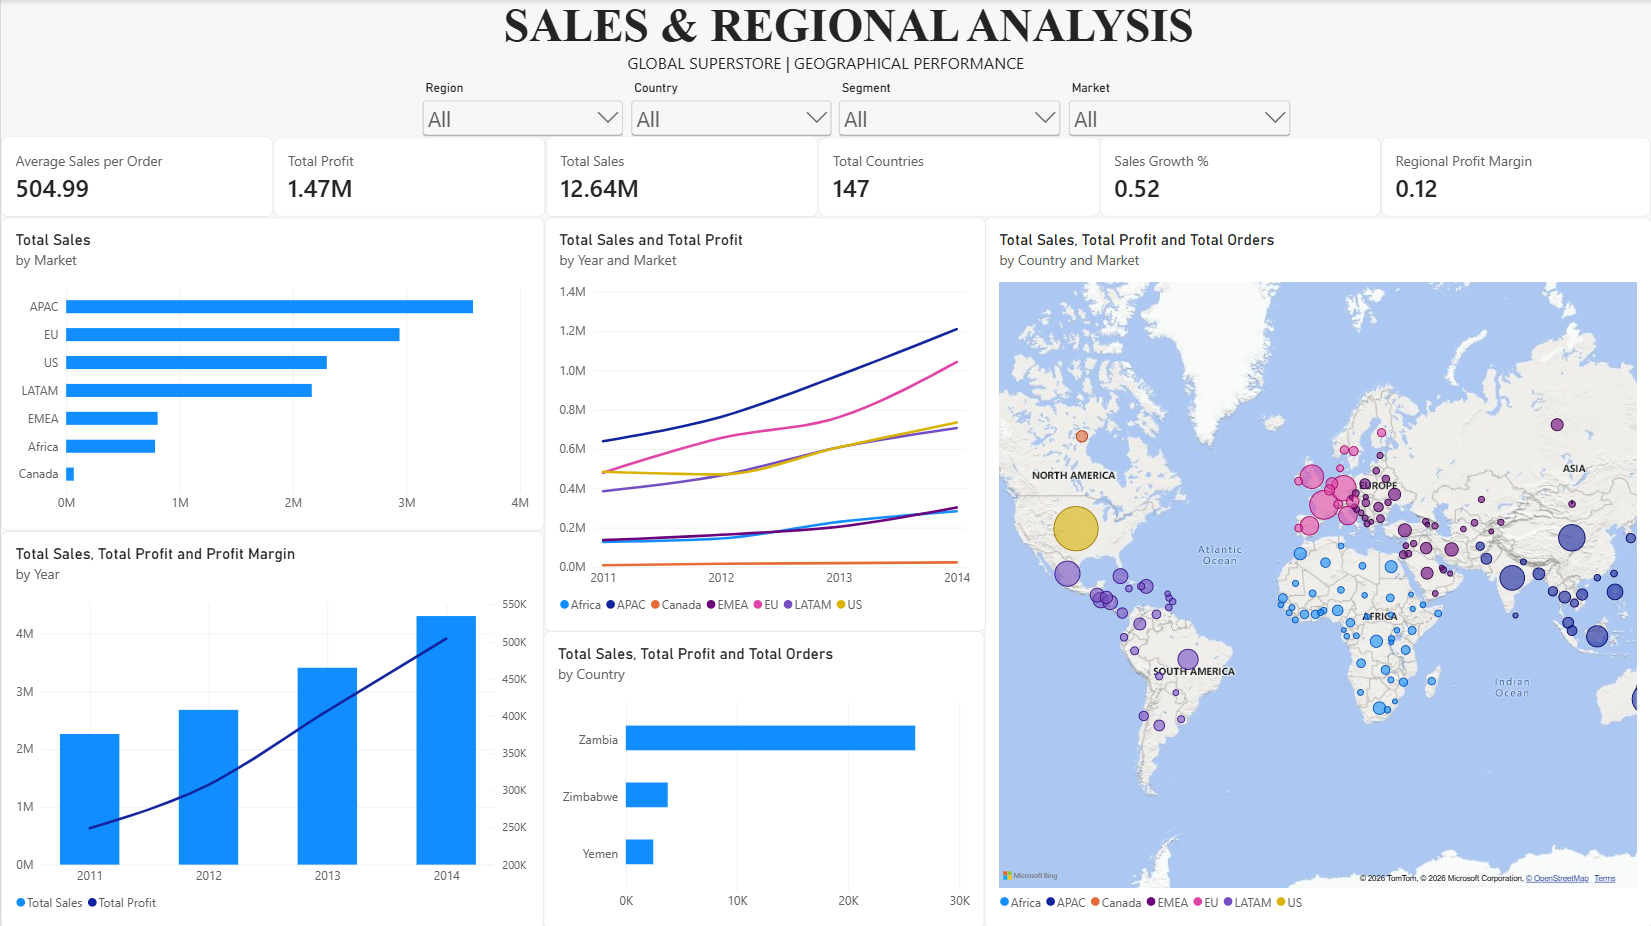

What the dashboard file says about the page in this screenshot:
{"tool":"powerbi","page":{"name":"SALES & REGIONAL  ","canvas":[1920,1080],"ordinal":1},"visuals":[{"type":"textbox","box":[0,0,1919,92],"z":0},{"type":"slicer","title":"REGION ","fields":{"Values":["Global_Superstore2.Region"]},"box":[485.8,92.6,242.9,74.1],"z":1000},{"type":"slicer","fields":{"Values":["Global_Superstore2.Country"]},"box":[728.6,92.6,242.9,72],"z":2000},{"type":"slicer","fields":{"Values":["Global_Superstore2.Segment"]},"box":[969.5,92.6,267.6,72],"z":3000},{"type":"cardVisual","fields":{"Data":["Global_Superstore2.Total Profit"]},"box":[317,160.5,317,92.6],"z":4000},{"type":"cardVisual","fields":{"Data":["Global_Superstore2.Total Sales"]},"box":[634,158.5,317,94.7],"z":5000},{"type":"cardVisual","fields":{"Data":["Global_Superstore2.Total Countries"]},"box":[950.9,160.5,327.3,92.6],"z":6000},{"type":"cardVisual","fields":{"Data":["Global_Superstore2.Sales Growth %"]},"box":[1278.2,160.5,327.3,92.6],"z":7000},{"type":"cardVisual","fields":{"Data":["Global_Superstore2.Average Sales per Order"]},"box":[0,158.5,317,94.7],"z":8000},{"type":"cardVisual","fields":{"Data":["Global_Superstore2.Regional Profit Margin"]},"box":[1605.5,160.5,314.9,92.6],"z":9000},{"type":"clusteredBarChart","fields":{"Category":["Global_Superstore2.Market"],"Y":["Global_Superstore2.Total Sales"]},"box":[0,253.2,631.9,364.3],"z":10000},{"type":"slicer","fields":{"Values":["Global_Superstore2.Market"]},"box":[1237.1,92.6,267.6,67.9],"z":11000},{"type":"lineClusteredColumnComboChart","fields":{"Category":["Global_Superstore2.Order Date.Variation.Date Hierarchy.Year"],"Y":["Global_Superstore2.Total Sales"],"Y2":["Global_Superstore2.Total Profit"]},"box":[0,617.3,631.4,463],"z":12000},{"type":"clusteredBarChart","fields":{"Category":["Global_Superstore2.Country"],"Y":["Global_Superstore2.Total Sales"]},"box":[631.4,734.2,512.9,346.1],"z":13000},{"type":"map","fields":{"Category":["Global_Superstore2.Country"],"Series":["Global_Superstore2.Market"],"Size":["Global_Superstore2.Total Sales"]},"box":[1144.4,253.2,776,827.4],"z":14000},{"type":"lineChart","fields":{"Category":["Global_Superstore2.Order Date.Variation.Date Hierarchy.Year","Global_Superstore2.Order Date.Variation.Date Hierarchy.Month"],"Series":["Global_Superstore2.Market"],"Y":["Global_Superstore2.Total Sales"]},"box":[631.9,253.2,512.5,481.6],"z":15000}]}

Visuals, with their boxes in screenshot pixels (x1, y1, x2, y2), scaled from the page's 1920x1080 canvas onto the 1651x926 screenshot:
textbox: select_region(0, 0, 1650, 79)
"REGION " slicer: select_region(418, 79, 627, 143)
slicer - Global_Superstore2.Country: select_region(627, 79, 835, 141)
slicer - Global_Superstore2.Segment: select_region(834, 79, 1064, 141)
cardVisual - Global_Superstore2.Total Profit: select_region(273, 138, 545, 217)
cardVisual - Global_Superstore2.Total Sales: select_region(545, 136, 818, 217)
cardVisual - Global_Superstore2.Total Countries: select_region(818, 138, 1099, 217)
cardVisual - Global_Superstore2.Sales Growth %: select_region(1099, 138, 1381, 217)
cardVisual - Global_Superstore2.Average Sales per Order: select_region(0, 136, 273, 217)
cardVisual - Global_Superstore2.Regional Profit Margin: select_region(1381, 138, 1650, 217)
clusteredBarChart - Global_Superstore2.Market x Global_Superstore2.Total Sales: select_region(0, 217, 543, 529)
slicer - Global_Superstore2.Market: select_region(1064, 79, 1294, 138)
lineClusteredColumnComboChart - Global_Superstore2.Order Date.Variation.Date Hierarchy.Year x Global_Superstore2.Total Sales: select_region(0, 529, 543, 925)
clusteredBarChart - Global_Superstore2.Country x Global_Superstore2.Total Sales: select_region(543, 630, 984, 925)
map - Global_Superstore2.Country x Global_Superstore2.Market: select_region(984, 217, 1650, 925)
lineChart - Global_Superstore2.Order Date.Variation.Date Hierarchy.Year x Global_Superstore2.Order Date.Variation.Date Hierarchy.Month: select_region(543, 217, 984, 630)
